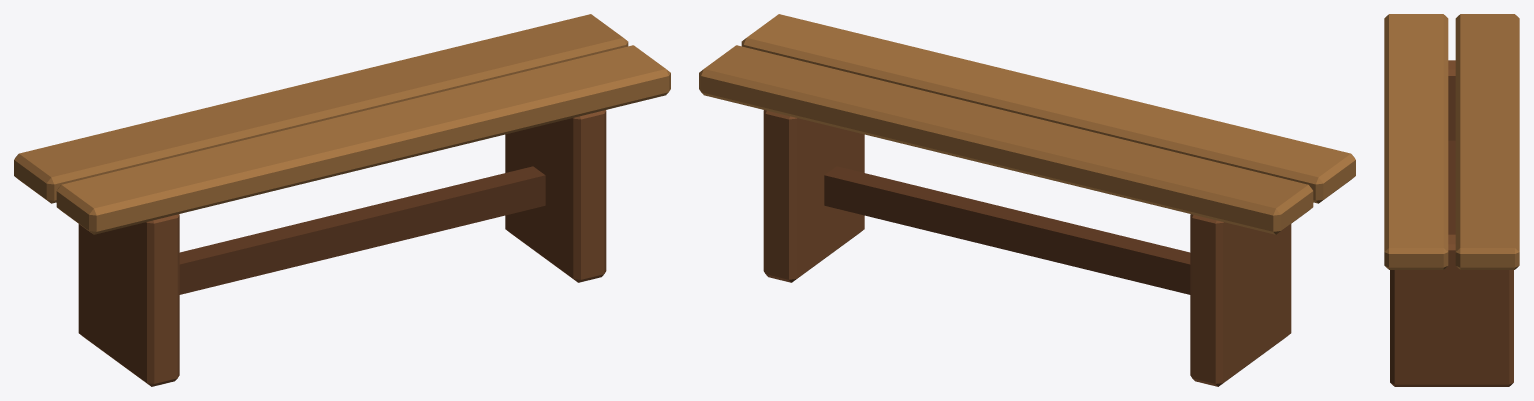
Rendered from bench__a.glb.
3 renders of one model, left to right at view 1: azimuth 30°, elevation 25°; view 2: azimuth 150°, elevation 25°; view 3: azimuth 270°, elevation 25°, orthographic. The views are drawn at different scales.
Parts seen in each view (by area): view 1: bench_plank, bench_plank.001, bench_rail, bench_leg, bench_leg.001; view 2: bench_plank.001, bench_plank, bench_rail, bench_leg, bench_leg.001; view 3: bench_plank, bench_plank.001, bench_leg.001, bench_rail, bench_leg.
Boxes of the visible parts, x1,y1,x2,y2 form: bench_plank: (56, 45, 670, 234); bench_plank.001: (14, 14, 628, 203); bench_rail: (179, 166, 545, 294); bench_leg: (78, 214, 179, 386); bench_leg.001: (505, 110, 606, 282); bench_plank.001: (699, 45, 1313, 234); bench_plank: (741, 14, 1355, 203); bench_rail: (824, 166, 1190, 294); bench_leg: (1190, 214, 1291, 386); bench_leg.001: (763, 110, 864, 282); bench_plank: (1384, 14, 1448, 269); bench_plank.001: (1455, 14, 1519, 269); bench_leg.001: (1390, 234, 1513, 386); bench_rail: (1448, 140, 1455, 234); bench_leg: (1448, 60, 1455, 140).
Size of the model in its own units: 1.36 by 0.4386 by 0.3273.
